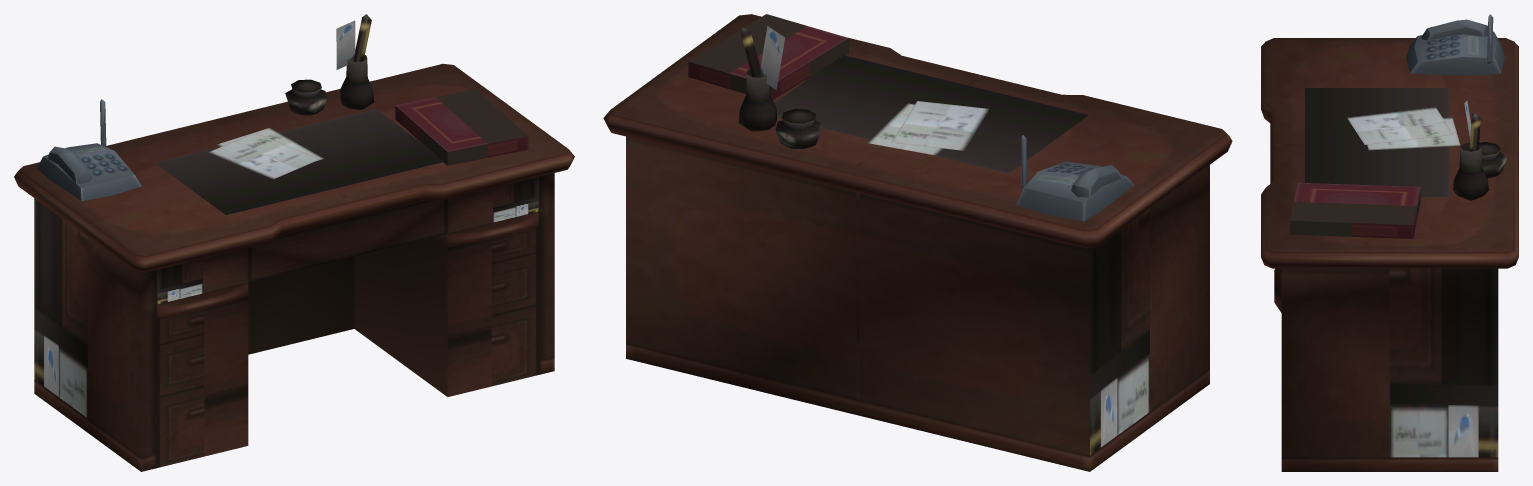
The model's file is int_prs_tableM.dae.
3 renders of one model, left to right at view 1: azimuth 30°, elevation 25°; view 2: azimuth 150°, elevation 25°; view 3: azimuth 270°, elevation 25°, orthographic. The views are drawn at different scales.
Parts seen in each view (by area): view 1: int_prs_tableM; view 2: int_prs_tableM; view 3: int_prs_tableM.
Part boxes in pixels (x1,y1,x2,y2): int_prs_tableM: (14,14,574,471); int_prs_tableM: (603,14,1232,471); int_prs_tableM: (1261,14,1518,471).
Size of the model in its own units: 64 by 43.12 by 32.
Materials: 1 (1 with a texture image).
